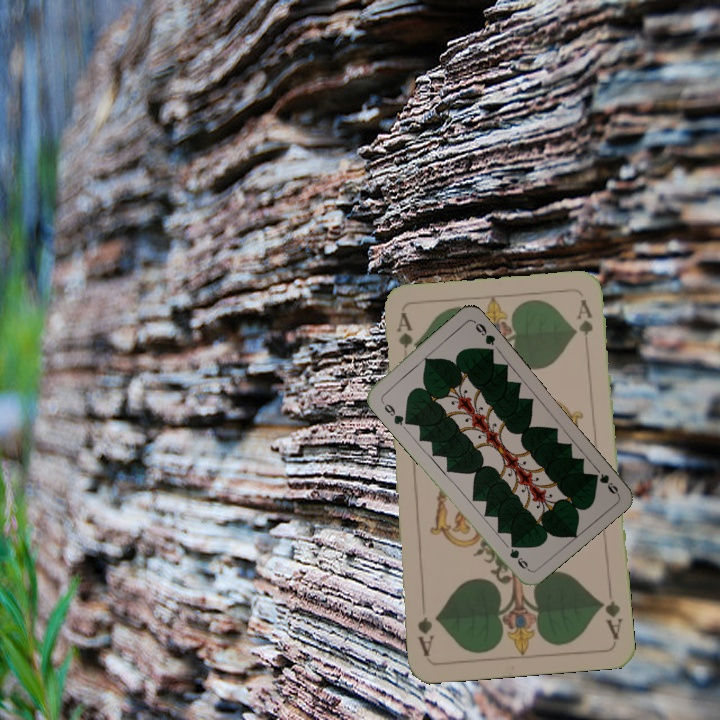G9: (377, 396, 410, 428), (590, 469, 621, 497)
GA: (596, 583, 625, 642), (392, 309, 415, 351)
